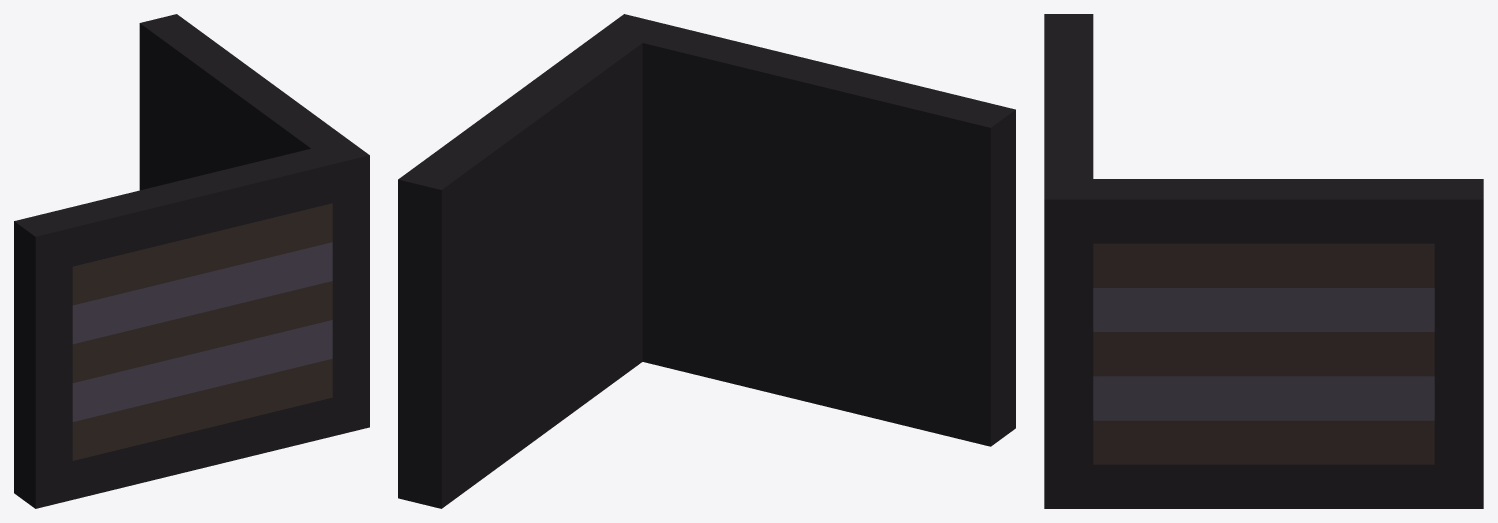
The model's file is shade_WrapArmR.glb.
The picture shows the model from 3 angles, left to right: view 1: azimuth 30°, elevation 25°; view 2: azimuth 150°, elevation 25°; view 3: azimuth 270°, elevation 25°; orthographic projection. The views are drawn at different scales.
Visible parts, largest first — view 1: shade_WrapArmR; view 2: shade_WrapArmR; view 3: shade_WrapArmR.
Boxes of the visible parts, x1,y1,x2,y2 form: shade_WrapArmR: [14, 14, 369, 508]; shade_WrapArmR: [398, 14, 1015, 508]; shade_WrapArmR: [1044, 14, 1483, 508].
Bounding box in the file's own units: 1.12 × 0.875 × 1.12.
1 material, 1 textured.
